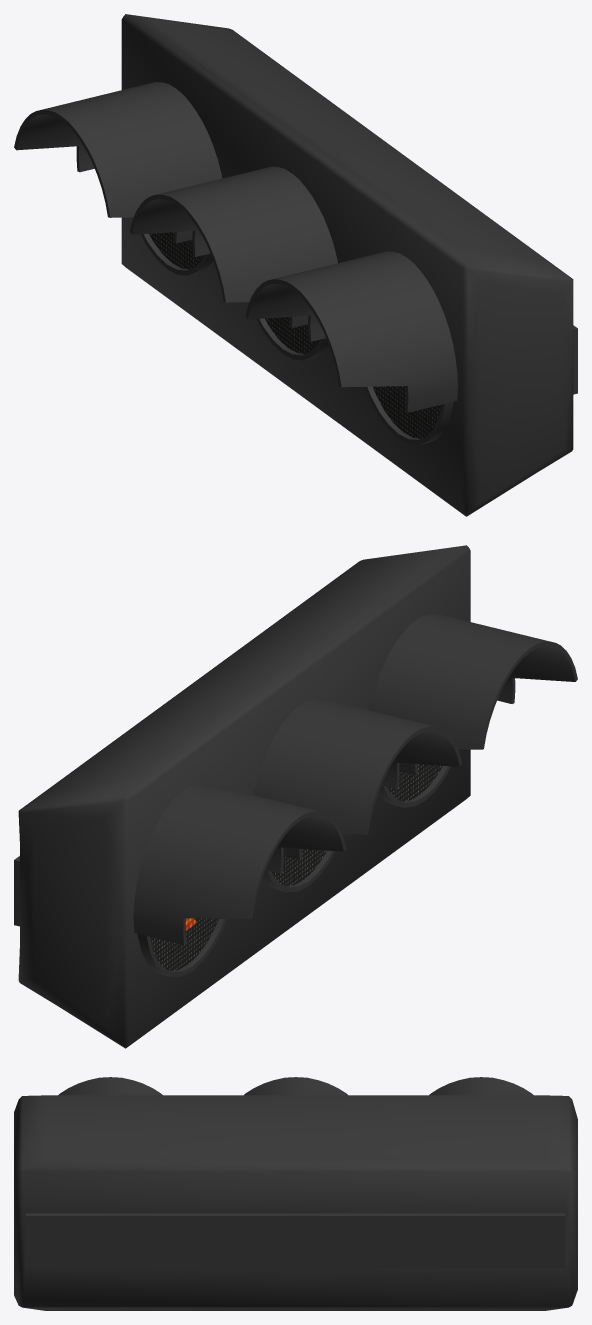
The model's file is 横向左转灯_RedLight.fbx.
The picture shows the model from 3 angles, top to bottom: view 1: azimuth 30°, elevation 25°; view 2: azimuth 150°, elevation 25°; view 3: azimuth 270°, elevation 25°; orthographic projection. The views are drawn at different scales.
Parts seen in each view (by area): view 1: 横向左转灯_RedLight; view 2: 横向左转灯_RedLight; view 3: 横向左转灯_RedLight.
Boxes of the visible parts, x1,y1,x2,y2 form: 横向左转灯_RedLight: (14,14,577,516); 横向左转灯_RedLight: (14,545,577,1048); 横向左转灯_RedLight: (14,1077,577,1310).
Bounding box in the file's own units: 0.6 × 0.65 × 1.58.
Materials: 3 (2 with a texture image).
